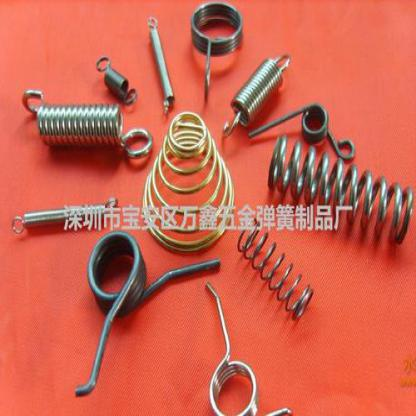FOD: (72, 231, 223, 398), (265, 128, 415, 248), (141, 107, 238, 256), (204, 277, 294, 415), (21, 89, 154, 162), (237, 217, 315, 323), (247, 97, 360, 163), (220, 45, 293, 139), (188, 1, 244, 98), (9, 194, 120, 239), (147, 10, 175, 116), (96, 53, 136, 104)
